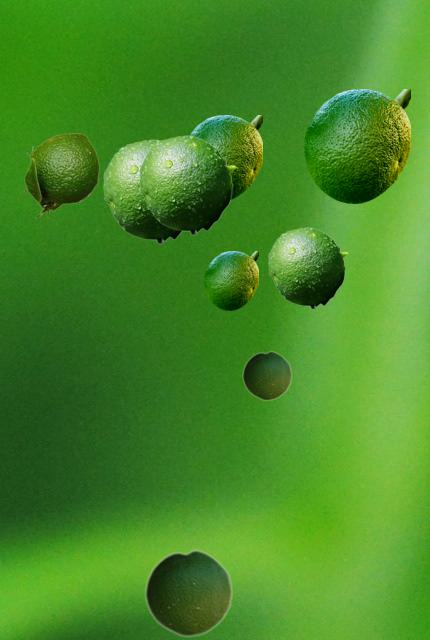dalandan: (304, 89, 409, 202), (139, 135, 235, 234), (103, 139, 182, 243), (144, 549, 232, 637), (268, 227, 347, 308), (23, 133, 98, 217), (190, 115, 261, 199), (204, 251, 257, 309), (242, 350, 291, 400)
